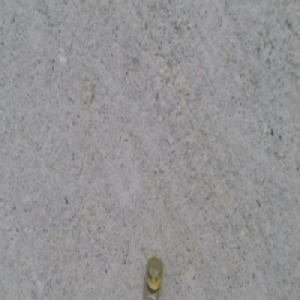BoltNutSet: (144, 258, 162, 299)
